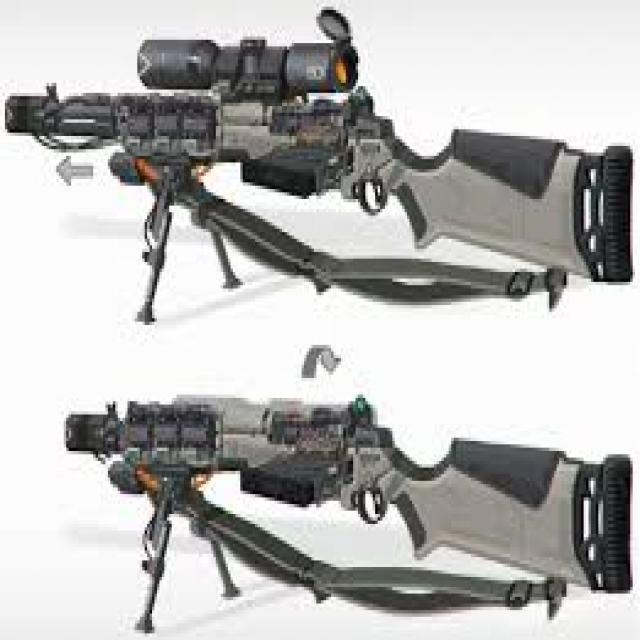weapon: (5, 23, 640, 296), (59, 396, 640, 640)
